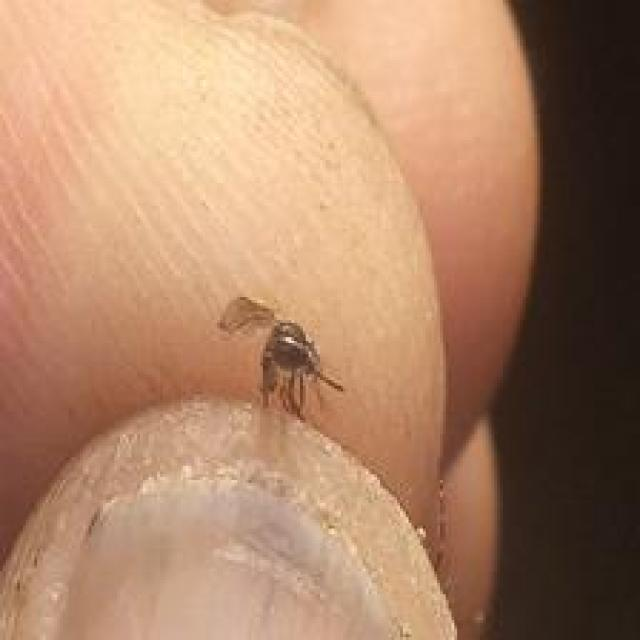Aedes albopictus: (216, 294, 344, 423)
